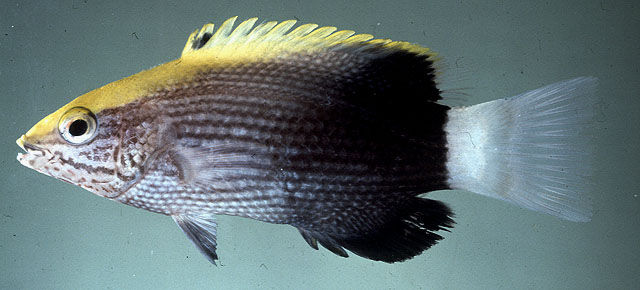fish: (15, 17, 601, 268)
